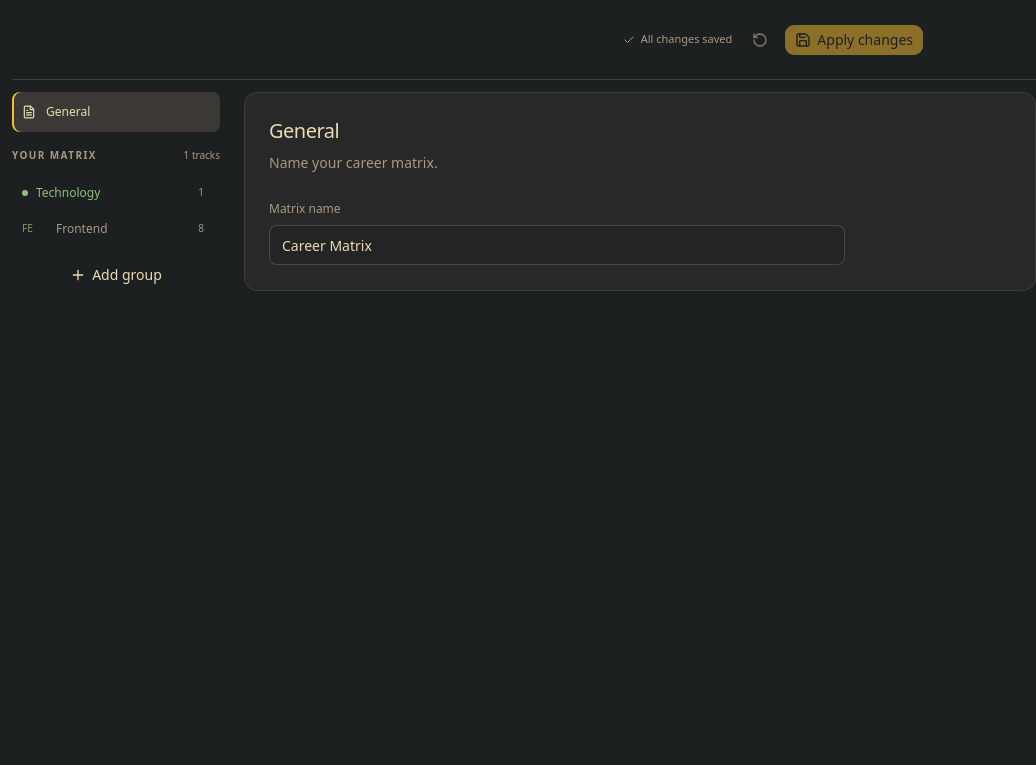
Test: <DocumentForm /> › does not allow more than eight levels
Click the button "FE Frontend 8": click(113, 229) [14,213,212,245]
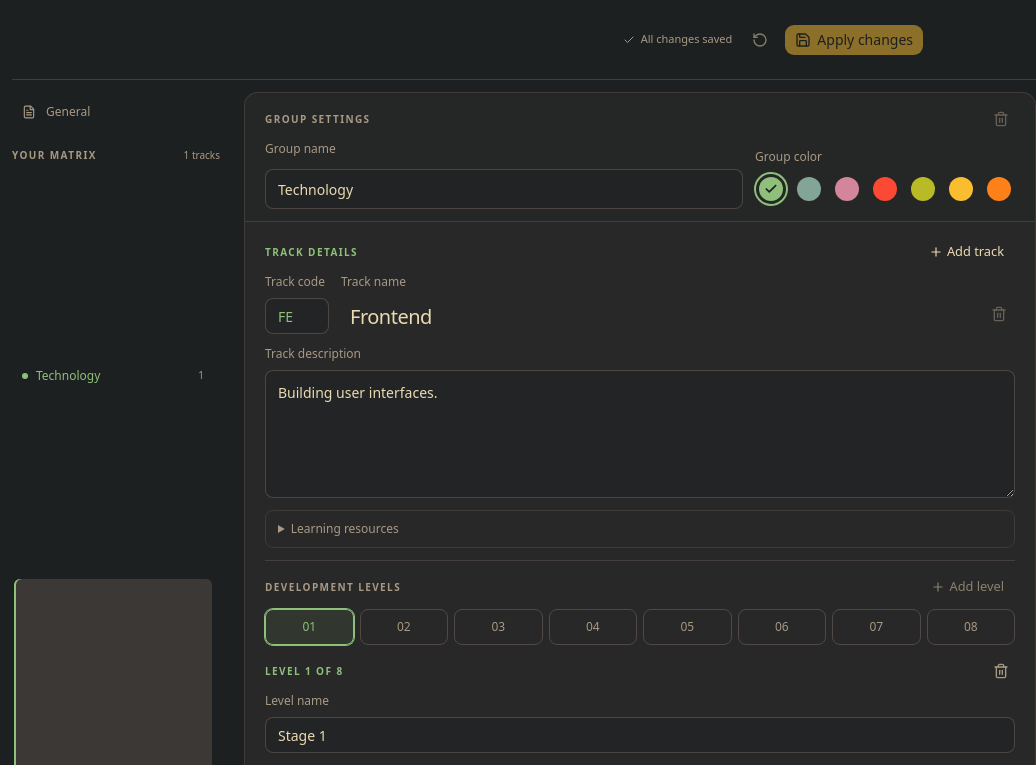
Expected: the button "Add level" is disabled, [920,573,1015,601]
